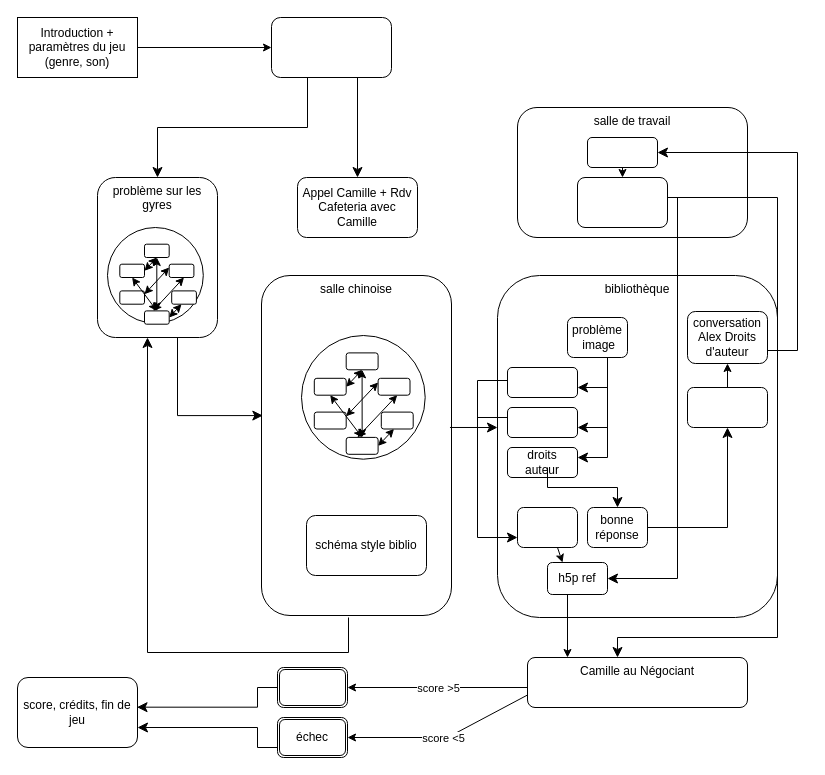
Image size: 825x775. Some labels were removed from this diagram. The centre of each missing label's shape, as x and y in pixels:
bonne qualité: [542,382]
cafeteria Amalith: [331,47]
changer image: [542,422]
h5p licences libres + choix image: [622,202]
licences libres: [622,152]
mauvaise réponse: [547,527]
recherche inverse image: [727,407]
épreuve réussie: [312,687]
